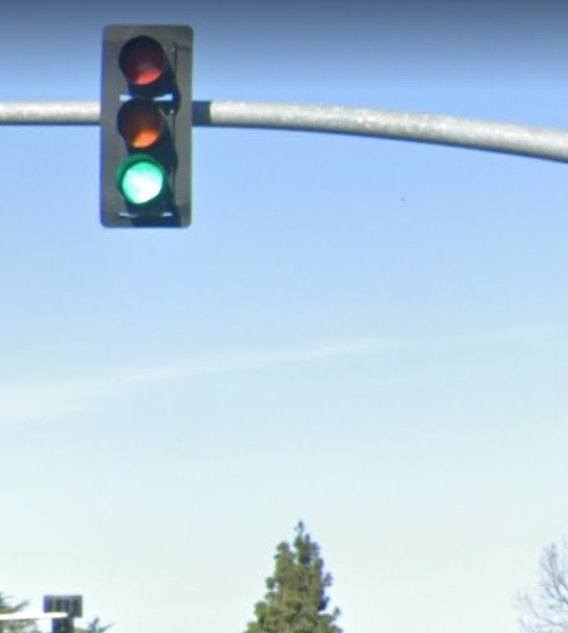green_light: (108, 29, 187, 227)
